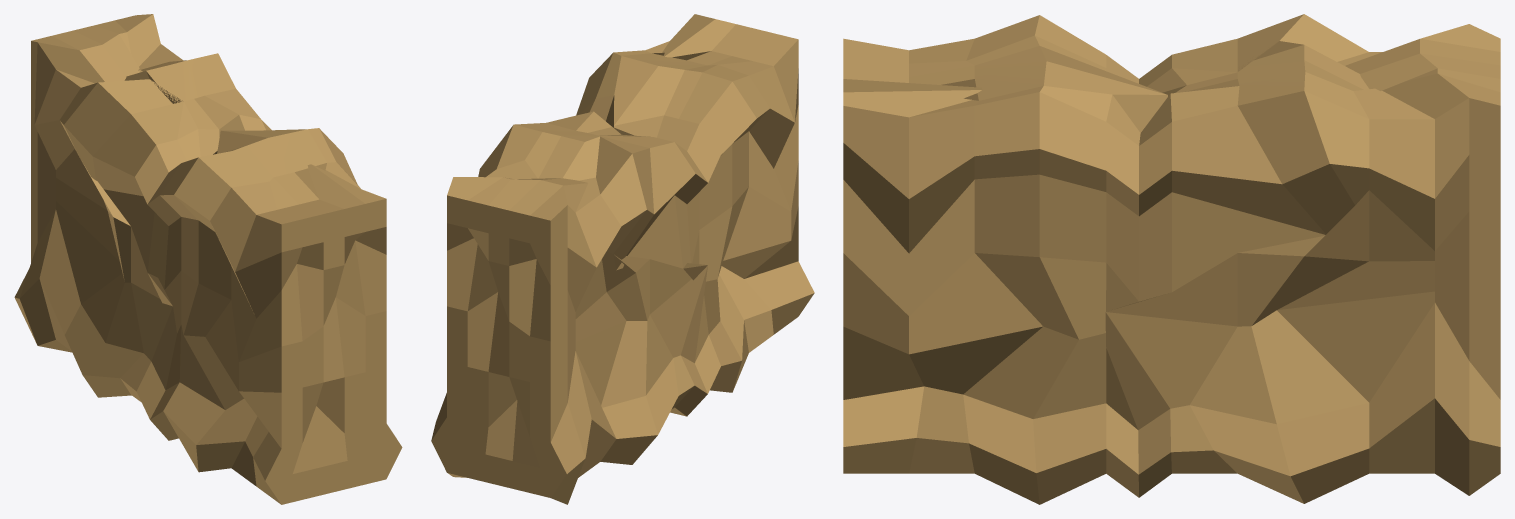
File: Parede_tipo_1.fbx
The picture shows the model from 3 angles, left to right: view 1: azimuth 30°, elevation 25°; view 2: azimuth 150°, elevation 25°; view 3: azimuth 270°, elevation 25°; orthographic projection. The views are drawn at different scales.
Visible parts, largest first — view 1: Parede tipo 1; view 2: Parede tipo 1; view 3: Parede tipo 1.
Boxes of the visible parts, bbox=[...] form: Parede tipo 1: bbox=[14, 14, 402, 504]; Parede tipo 1: bbox=[431, 14, 814, 504]; Parede tipo 1: bbox=[843, 14, 1500, 504].
Size of the model in its own units: 127 by 225 by 324.
